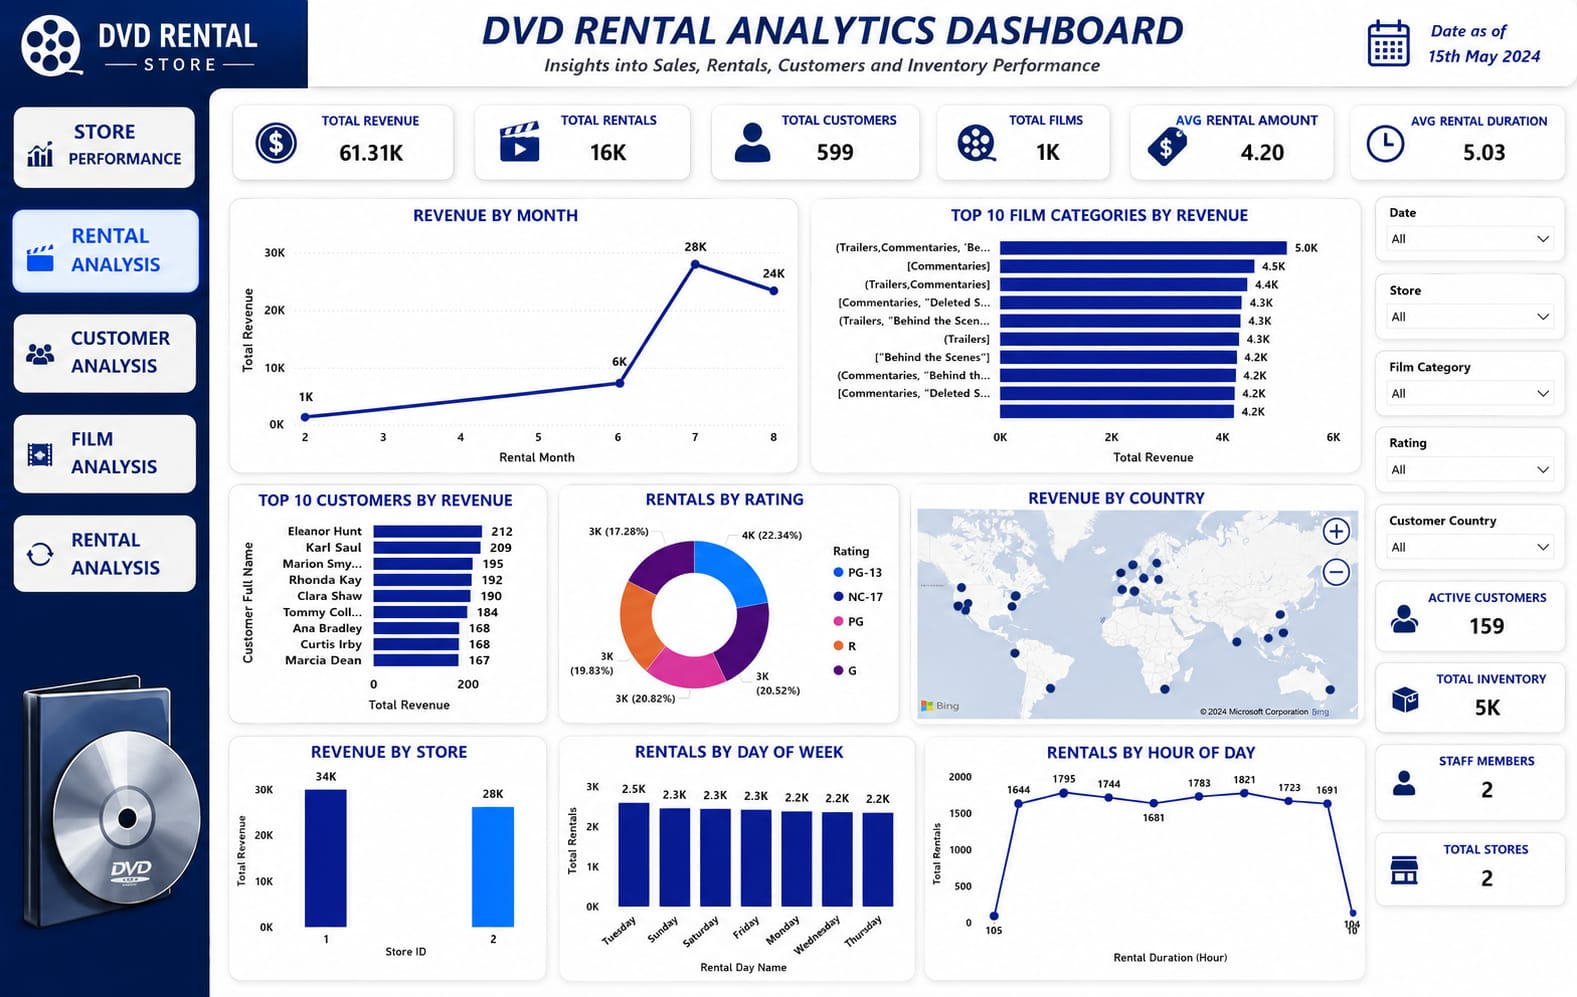

What the dashboard file says about the page in this screenshot:
{"tool":"powerbi","page":{"name":"Page 5","canvas":[1900,1200],"ordinal":4},"visuals":[{"type":"textbox","box":[0,0,1900,110],"z":0},{"type":"slicer","fields":{"Values":["public rental.rental_date"]},"box":[1680,135,220,112],"z":0,"group":"g1"},{"type":"actionButton","box":[0,274,240,139.7],"z":0,"group":"g2"},{"type":"cardVisual","title":"TOTAL REVENUE","fields":{"Data":["public payment.total revenue"]},"box":[270,137.5,202.5,110],"z":1000},{"type":"slicer","fields":{"Values":["public store.store_id"]},"box":[1680,247,220,112],"z":1000,"group":"g1"},{"type":"actionButton","box":[0,413.7,240,139.7],"z":1000,"group":"g2"},{"type":"actionButton","title":"STORE PERFORMANCE","box":[0,135,240,139.7],"z":2000,"group":"g2"},{"type":"cardVisual","title":"TOTAL RENTALS","fields":{"Data":["public rental.total rentals"]},"box":[490,135,220,110],"z":2000},{"type":"slicer","fields":{"Values":["public film.special_features"]},"box":[1680,359,220,112],"z":2000,"group":"g1"},{"type":"cardVisual","title":"TOTAL CUSTOMERS","fields":{"Data":["public customer.Total customers"]},"box":[730,135,220,110],"z":3000},{"type":"slicer","fields":{"Values":["public film.rating"]},"box":[1680,471,220,112],"z":3000,"group":"g1"},{"type":"actionButton","box":[0,562.9,240,139.7],"z":3000,"group":"g2"},{"type":"cardVisual","title":"TOTAL FILMS","fields":{"Data":["public film.total films"]},"box":[970,135,220,110],"z":4000},{"type":"slicer","fields":{"Values":["public country.country"]},"box":[1680,583,220,112],"z":4000,"group":"g1"},{"type":"actionButton","box":[0,715.3,240,139.7],"z":4000,"group":"g2"},{"type":"cardVisual","title":"AVG RENTAL AMOUNT","fields":{"Data":["public payment.Average rental amount"]},"box":[1210,135,220,110],"z":5000},{"type":"cardVisual","title":"AVG RENTAL DURATION","fields":{"Data":["public rental.Average rental duration"]},"box":[1450,135,220,110],"z":6000},{"type":"lineChart","title":"REVENUE BY MONTH","fields":{"Y":["public payment.total revenue"],"Category":["public rental.Rental_Month"]},"box":[270,265,652.5,300],"z":7000},{"type":"barChart","title":"TOP 10 FILM CATEGORIES BY REVENUE","fields":{"Y":["public payment.total revenue"],"Category":["public film.special_features"]},"box":[950,265,720,300],"z":8000},{"type":"barChart","title":"TOP 10 CUSTOMERS BY REVENUE","fields":{"Y":["public payment.total revenue"],"Category":["public customer.customer full name"]},"box":[270,582.5,367.5,300],"z":9000},{"type":"donutChart","title":"RENTALS BY RATING","fields":{"Y":["public rental.total rentals"],"Category":["public film.rating"]},"box":[662.5,582.5,400,300],"z":10000},{"type":"map","title":"REVENUE BY COUNTRY","fields":{"Size":["public payment.total revenue"],"Category":["public country.country"]},"box":[1080,582.5,590,300],"z":11000},{"type":"columnChart","title":"REVENUE BY STORE","fields":{"Y":["public payment.total revenue"],"Category":["public customer.store_id"]},"box":[270,900,367.5,280],"z":12000},{"type":"clusteredColumnChart","title":"RENTALS BY DAY OF WEEK","fields":{"Y":["public rental.total rentals"],"Category":["public rental.Rental Day Name"]},"box":[680,900,400,280],"z":13000},{"type":"lineChart","title":"RENTALS BY HOUR OF DAY","fields":{"Y":["public rental.total rentals"],"Category":["public rental.rental duration"]},"box":[1110,900,560,280],"z":14000},{"type":"cardVisual","title":"TOTAL STORES","fields":{"Data":["public store.total stores"]},"box":[1680,1080,220,100],"z":15000},{"type":"cardVisual","title":"STAFF MEMBERS","fields":{"Data":["public staff.Total staff"]},"box":[1680,960,220,100],"z":16000},{"type":"cardVisual","title":"TOTAL INVENTORY","fields":{"Data":["public inventory.total inventory"]},"box":[1680,832.5,220,100],"z":17000},{"type":"cardVisual","title":"ACTIVE CUSTOMERS","fields":{"Data":["public customer.Active Customers"]},"box":[1680,715,220,100],"z":18000},{"type":"group","id":"g1","title":"Group 1","box":[1680,135,220,560],"z":19000},{"type":"group","id":"g2","title":"Group 2","box":[0,135,240,720],"z":20000},{"type":"image","box":[1520,10,150,100],"z":21000},{"type":"image","box":[0,0,320,110],"z":22000},{"type":"image","box":[0,855,240,345],"z":23000}]}

Visuals, with their boxes in screenshot pixels (x1, y1, x2, y2), scaled from the page's 1900x1200 canvas onto the 1577x997 screenshot:
textbox: (0,0,1576,91)
slicer - public rental.rental_date: (1394,112,1576,205)
actionButton: (0,228,199,344)
"TOTAL REVENUE" cardVisual: (224,114,392,206)
slicer - public store.store_id: (1394,205,1576,298)
actionButton: (0,344,199,460)
"STORE PERFORMANCE" actionButton: (0,112,199,228)
"TOTAL RENTALS" cardVisual: (407,112,589,204)
slicer - public film.special_features: (1394,298,1576,391)
"TOTAL CUSTOMERS" cardVisual: (606,112,788,204)
slicer - public film.rating: (1394,391,1576,484)
actionButton: (0,468,199,584)
"TOTAL FILMS" cardVisual: (805,112,988,204)
slicer - public country.country: (1394,484,1576,577)
actionButton: (0,594,199,710)
"AVG RENTAL AMOUNT" cardVisual: (1004,112,1187,204)
"AVG RENTAL DURATION" cardVisual: (1204,112,1386,204)
"REVENUE BY MONTH" lineChart: (224,220,766,469)
"TOP 10 FILM CATEGORIES BY REVENUE" barChart: (788,220,1386,469)
"TOP 10 CUSTOMERS BY REVENUE" barChart: (224,484,529,733)
"RENTALS BY RATING" donutChart: (550,484,882,733)
"REVENUE BY COUNTRY" map: (896,484,1386,733)
"REVENUE BY STORE" columnChart: (224,748,529,980)
"RENTALS BY DAY OF WEEK" clusteredColumnChart: (564,748,896,980)
"RENTALS BY HOUR OF DAY" lineChart: (921,748,1386,980)
"TOTAL STORES" cardVisual: (1394,897,1576,980)
"STAFF MEMBERS" cardVisual: (1394,798,1576,881)
"TOTAL INVENTORY" cardVisual: (1394,692,1576,775)
"ACTIVE CUSTOMERS" cardVisual: (1394,594,1576,677)
"Group 1" group: (1394,112,1576,577)
"Group 2" group: (0,112,199,710)
image: (1262,8,1386,91)
image: (0,0,266,91)
image: (0,710,199,996)
